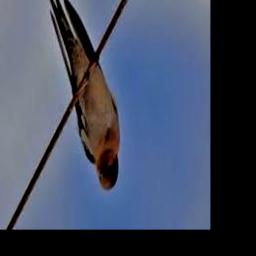Swallow: (45, 0, 121, 191)
